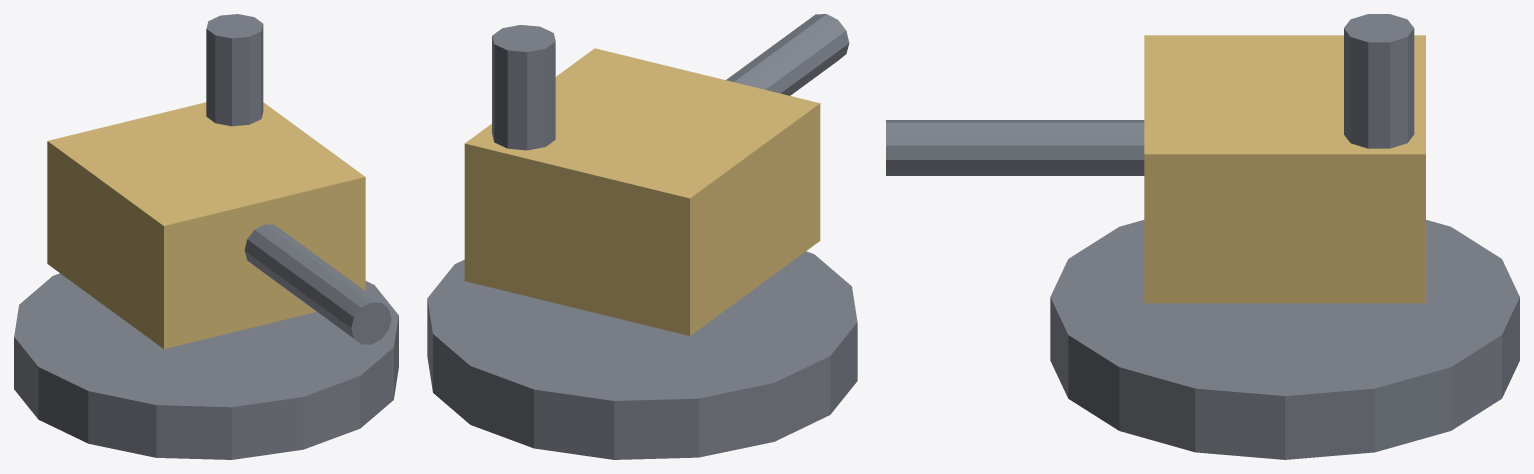
File: gearforge_turret_test.glb
3 views of the same model, side by side, from view 1: azimuth 30°, elevation 25°; view 2: azimuth 150°, elevation 25°; view 3: azimuth 270°, elevation 25° (orthographic). The views are drawn at different scales.
Visible parts, largest first — view 1: gearforge_turret_test_head, gearforge_turret_test_base, gearforge_turret_test_barrel, gearforge_turret_test_stack; view 2: gearforge_turret_test_head, gearforge_turret_test_base, gearforge_turret_test_stack, gearforge_turret_test_barrel; view 3: gearforge_turret_test_base, gearforge_turret_test_head, gearforge_turret_test_barrel, gearforge_turret_test_stack.
Part boxes in pixels (x1,y1,x2,y2): gearforge_turret_test_head: [47, 102, 365, 348]; gearforge_turret_test_base: [14, 273, 398, 459]; gearforge_turret_test_barrel: [244, 224, 391, 344]; gearforge_turret_test_stack: [206, 14, 263, 126]; gearforge_turret_test_head: [464, 48, 820, 335]; gearforge_turret_test_base: [427, 251, 857, 459]; gearforge_turret_test_stack: [492, 25, 555, 150]; gearforge_turret_test_barrel: [726, 14, 849, 95]; gearforge_turret_test_base: [1050, 220, 1519, 459]; gearforge_turret_test_head: [1144, 35, 1425, 303]; gearforge_turret_test_barrel: [886, 120, 1144, 175]; gearforge_turret_test_stack: [1344, 14, 1414, 148].
Size of the model in its own units: 2 by 1.75 by 2.7.
